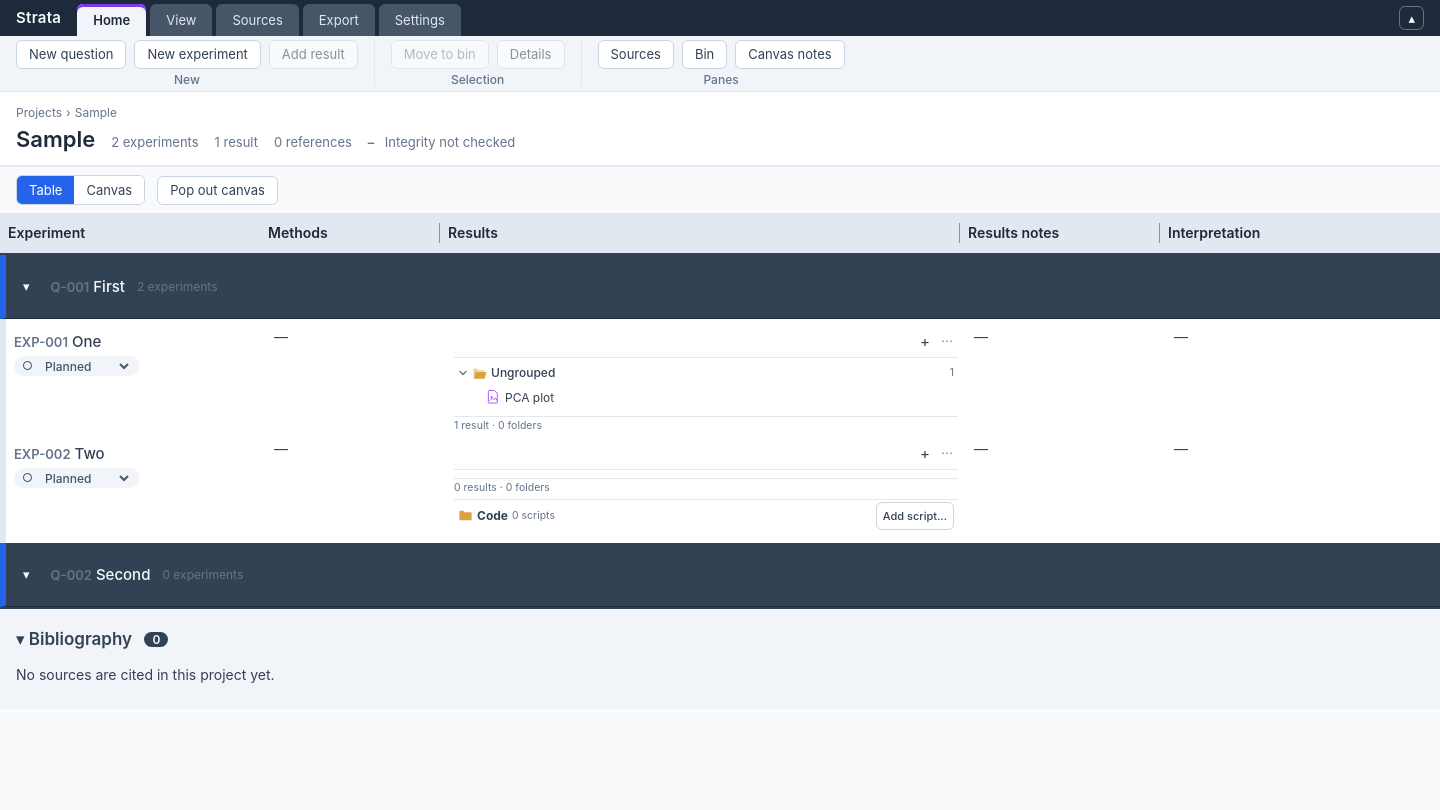
finding files in the Results cell (FR-EVD-09) › says why a refused folder cannot be scanned
Click the 1st button "+". click: (925, 341)
box: [916,327,934,355]
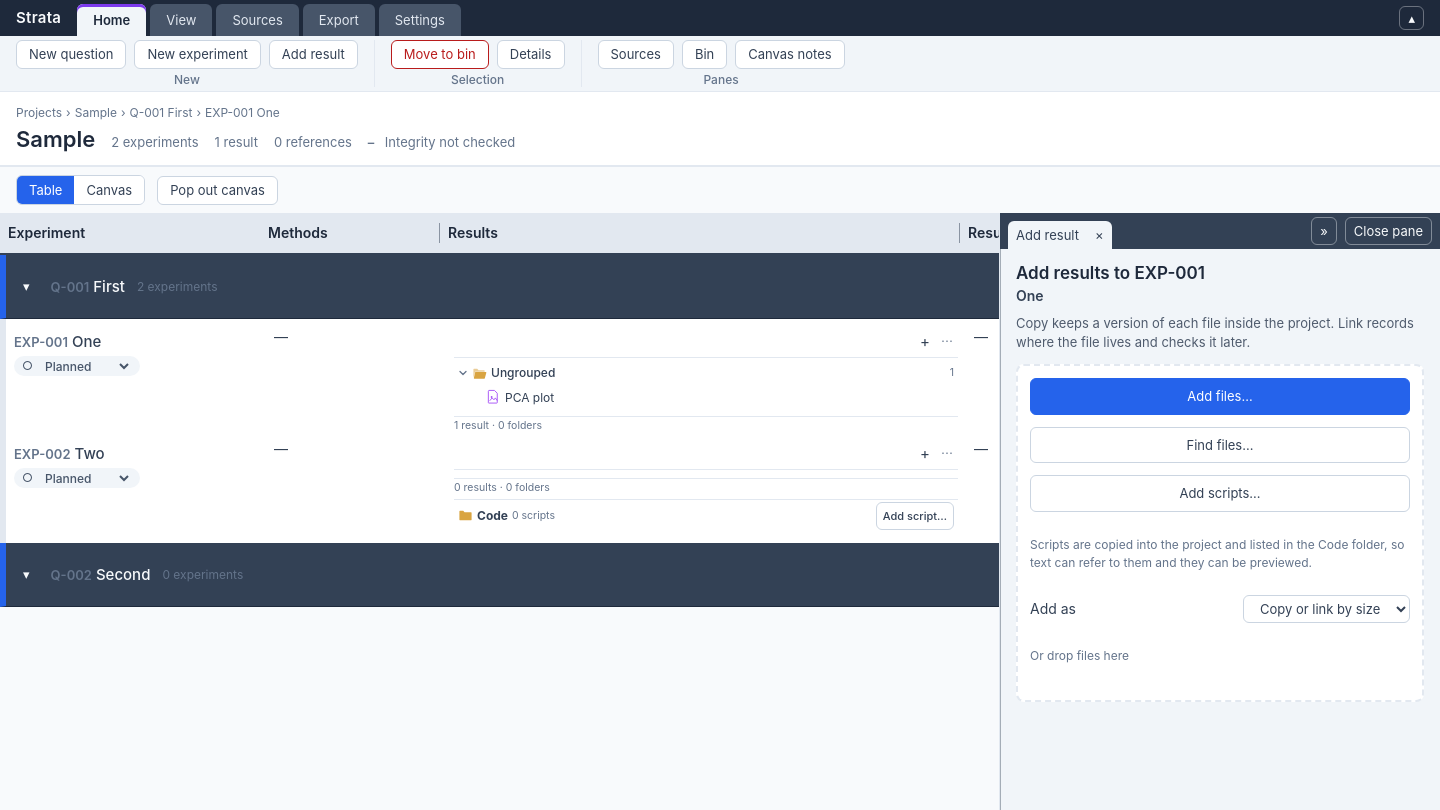
Click the button "Find files…". click: (1220, 445)
box: [1030,427,1410,463]
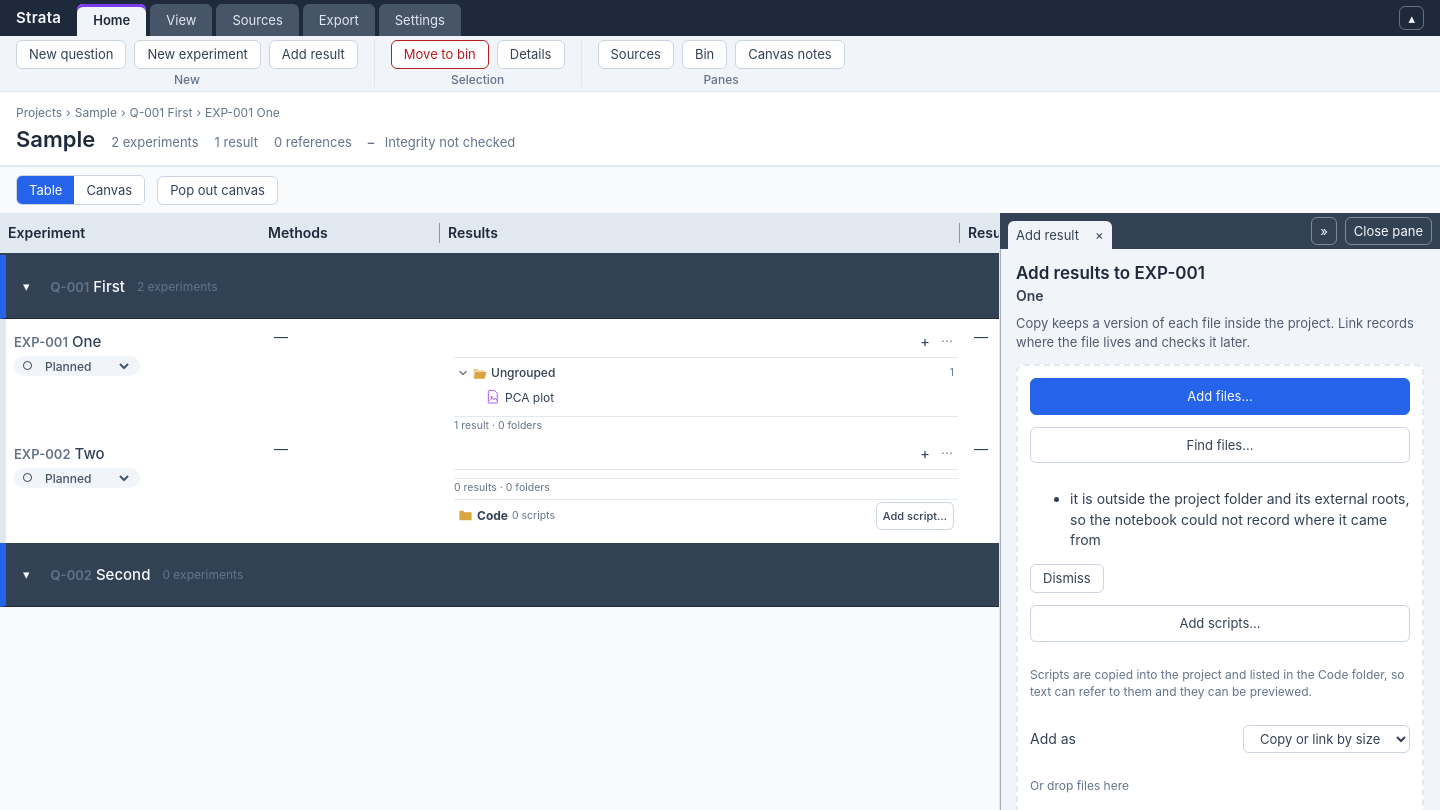
Now the message shows "outside the project folder", box [1070,490,1410,548]
